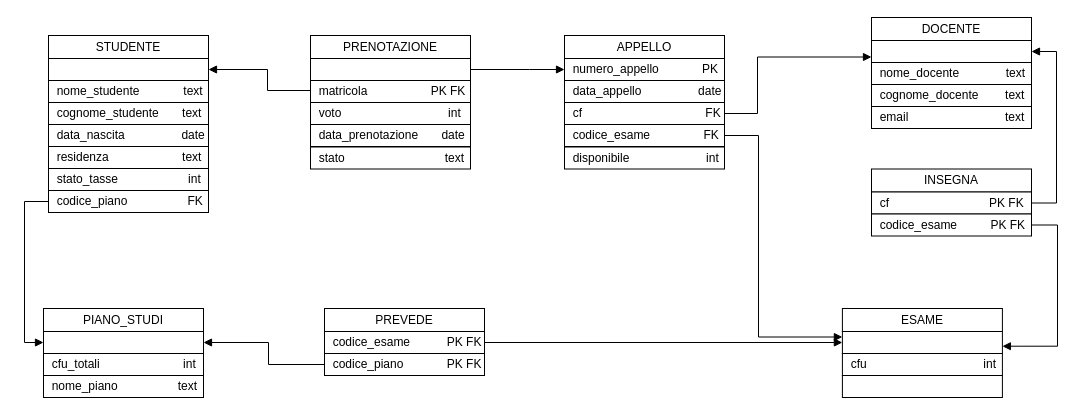
The diagram is 1083 pixels wide and 415 high, and some of its shapes have lost their labels. Here are the shapes that lost their labels. From the top down, the centre of each, then its label:
pixel 128 69: matricola PK
pixel 390 69: numero appello PK FK
pixel 951 51: cf PK
pixel 123 342: codice_piano PK
pixel 921 342: codice_esame PK
pixel 921 386: nome_esame text
